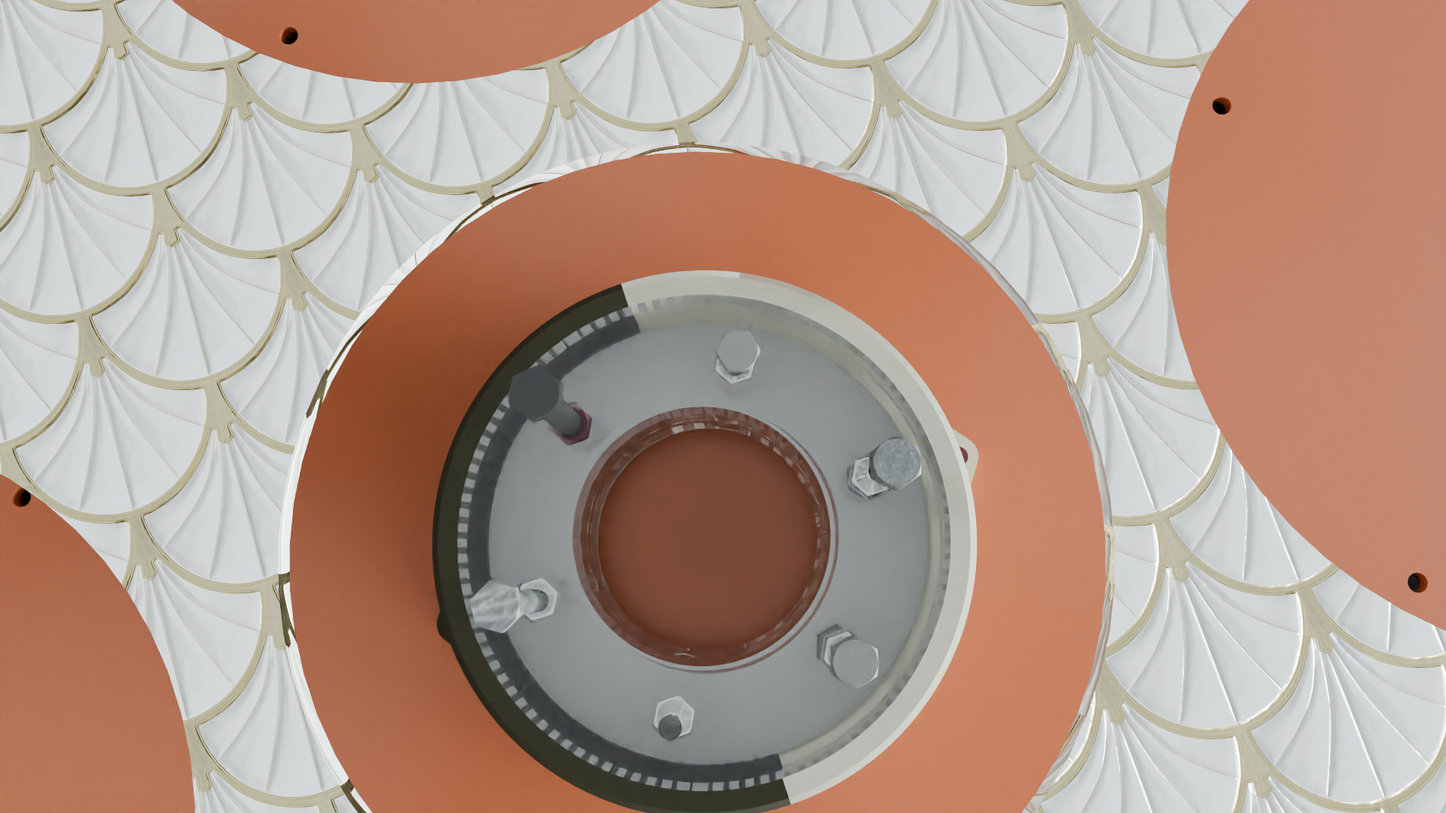bolt: (508, 365, 561, 421), (470, 581, 521, 633), (871, 436, 921, 489), (832, 635, 878, 689), (715, 331, 761, 370)
